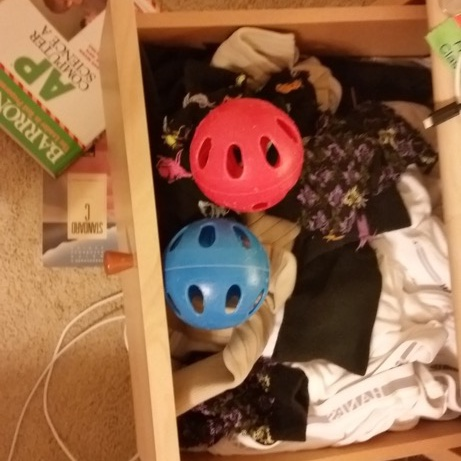blueball: (161, 214, 273, 334)
redball: (185, 93, 309, 216)
